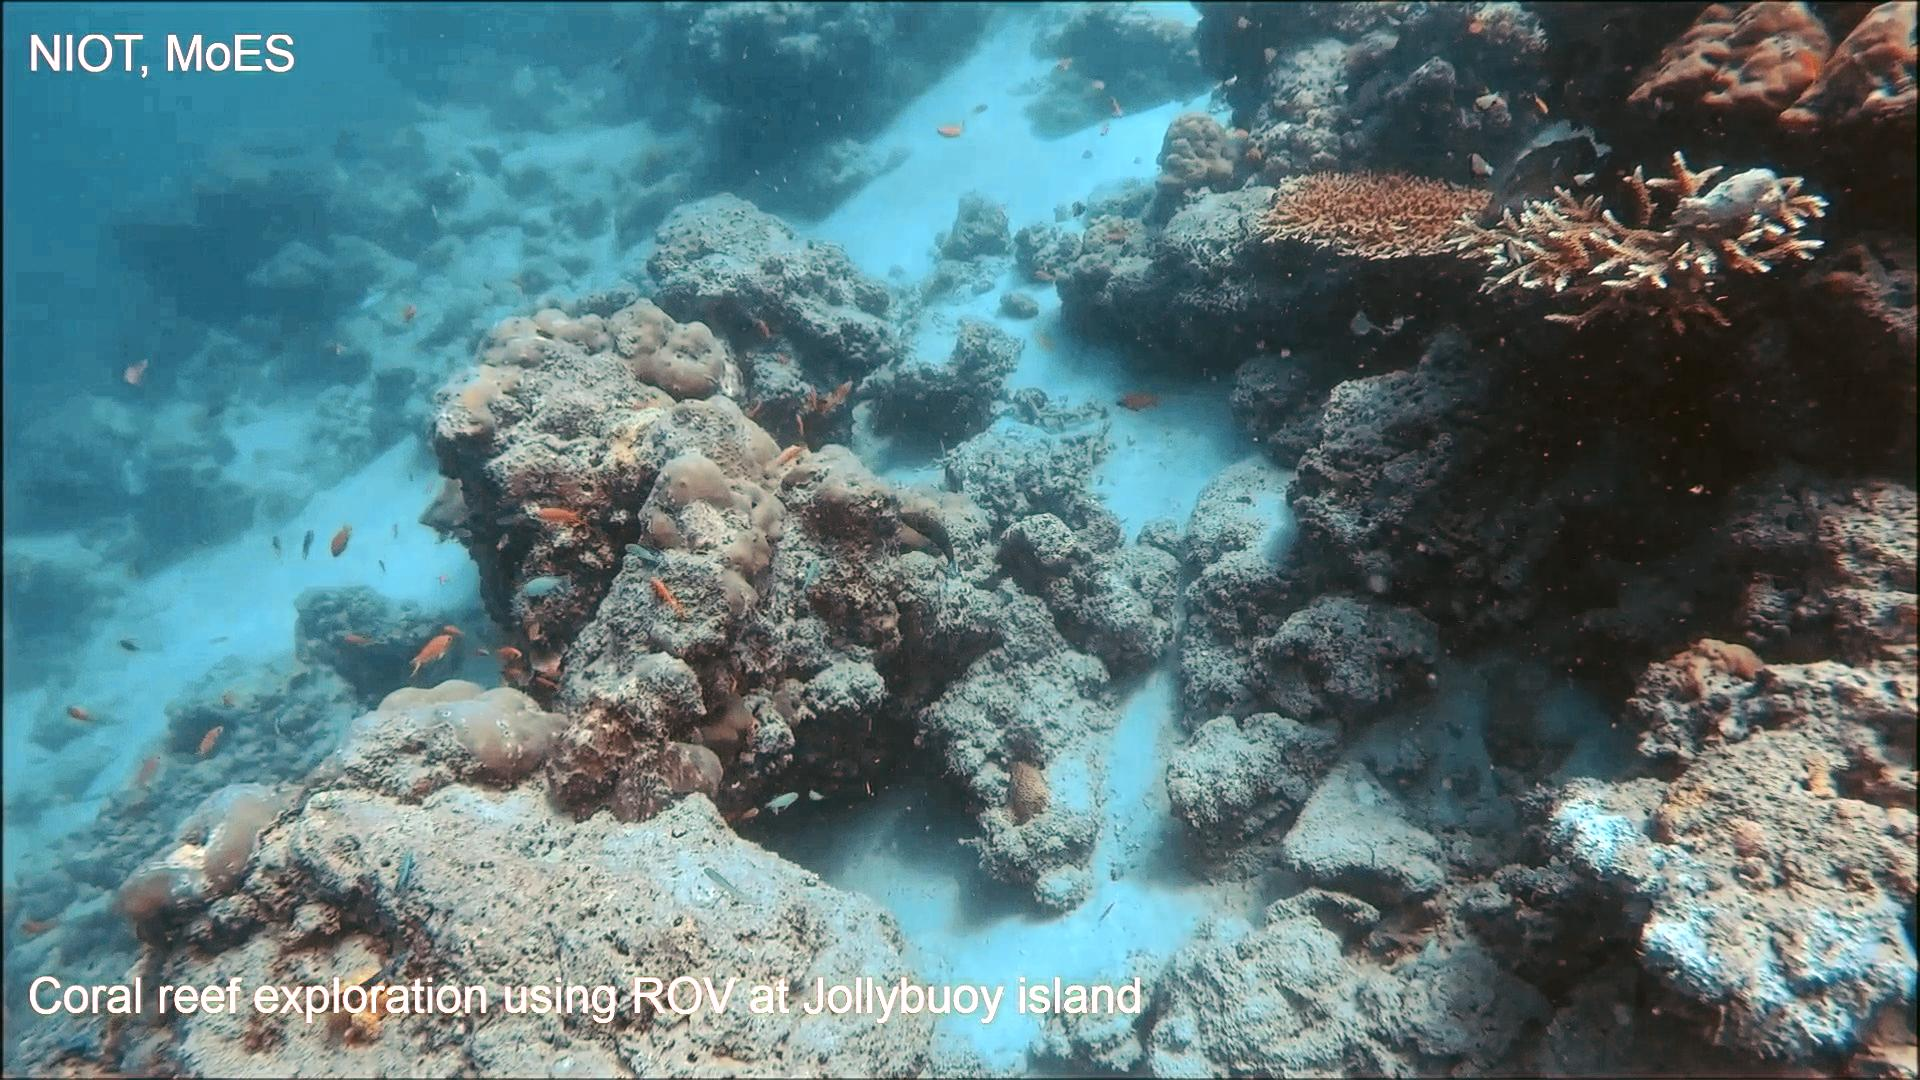Porites-Porites pukoensis: (576, 287, 820, 625)
